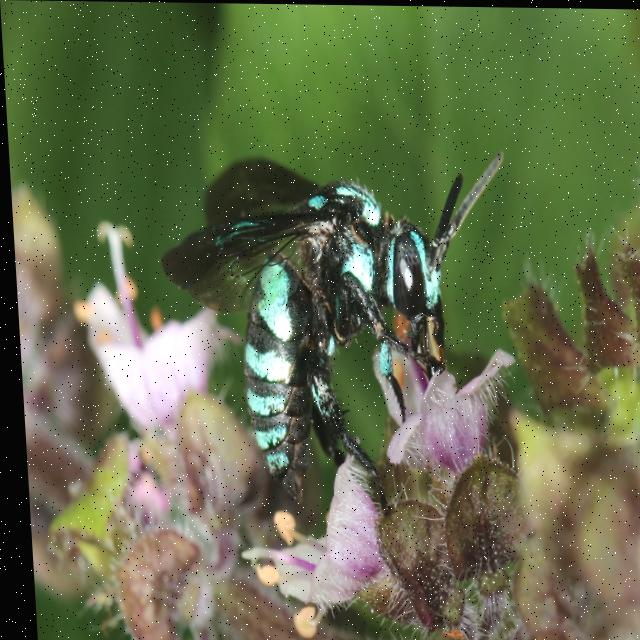Thyreus: (150, 144, 527, 530)
